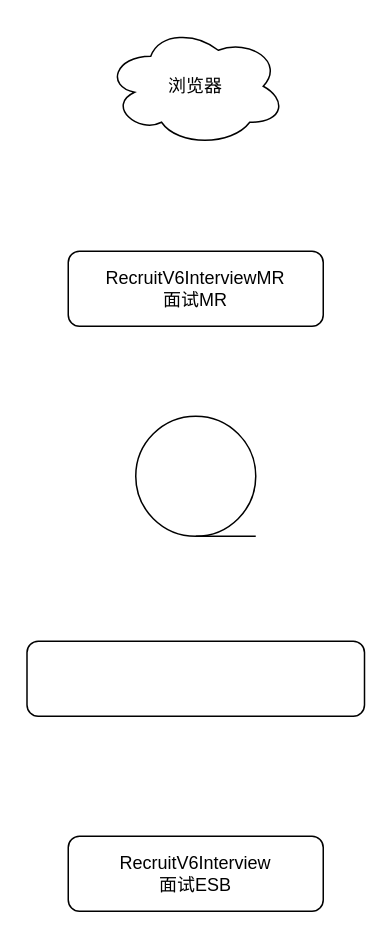
The diagram is 390 pixels wide and 938 high, and some of its shapes have lost their labels. Here are the shapes that lost their labels. From the top down, the centre of each, then its label:
At point (195, 475): "kafka".
At point (195, 678): "RecruitV6InterviewExportConsumer 面试导入消费端".
